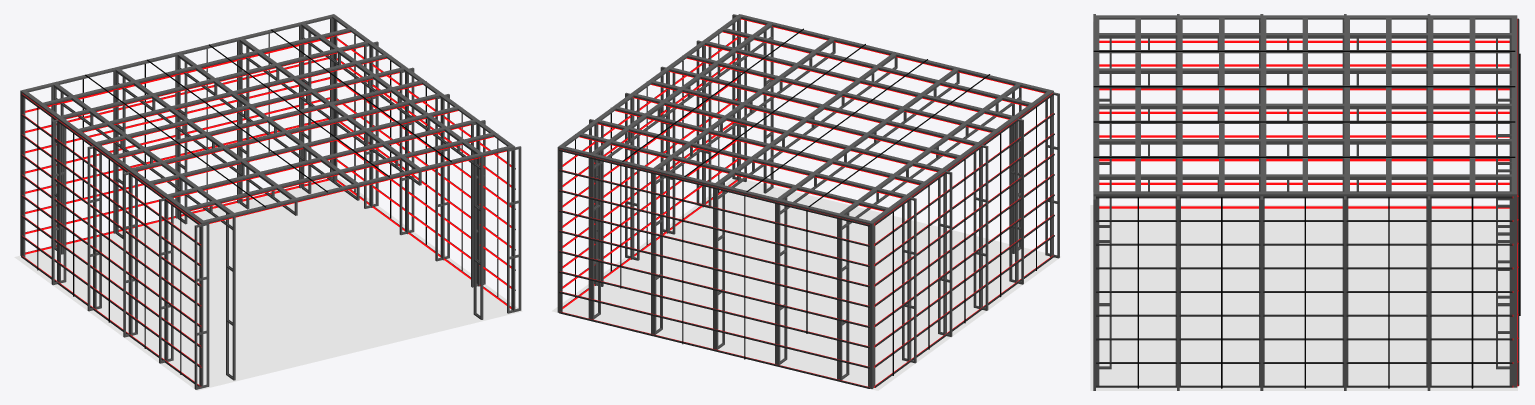
Rendered from lightbox.glb.
The picture shows the model from 3 angles, left to right: view 1: azimuth 30°, elevation 25°; view 2: azimuth 150°, elevation 25°; view 3: azimuth 270°, elevation 25°; orthographic projection. The views are drawn at different scales.
Visible parts, largest first — view 1: Object_4, Object_100, Object_5, Object_12, Object_7, Object_10, Object_86, object 20, object 19, object 21, object 18, object 15; view 2: Object_4, Object_100, Object_10, Object_5, Object_12, Object_7, Object_86; view 3: Object_100, Object_4, Object_86, Object_5, object 24, object 30, object 26, object 29, object 27, object 25, object 28, object 31 (+1 smaller).
Boxes of the visible parts, x1,y1,x2,y2 form: Object_4: (20, 14, 521, 389); Object_100: (14, 177, 522, 390); Object_5: (37, 29, 498, 374); Object_12: (21, 94, 201, 386); Object_7: (47, 31, 506, 223); Object_10: (25, 57, 329, 252); Object_86: (337, 38, 515, 306); object 20: (25, 77, 330, 153); object 19: (25, 97, 330, 173); object 21: (25, 58, 328, 132); object 18: (25, 118, 328, 193); object 15: (25, 179, 329, 254); Object_4: (557, 14, 1059, 388); Object_100: (552, 179, 1060, 390); Object_10: (559, 149, 869, 388); Object_5: (575, 28, 1036, 375); Object_12: (874, 93, 1054, 387); Object_7: (580, 18, 1044, 210); Object_86: (562, 37, 736, 306); Object_100: (1090, 205, 1517, 390); Object_4: (1093, 14, 1517, 390); Object_86: (1096, 196, 1512, 387); Object_5: (1093, 50, 1520, 388); object 24: (1099, 206, 1509, 208); object 30: (1099, 64, 1509, 66); object 26: (1099, 159, 1509, 161); object 29: (1099, 88, 1509, 90); object 27: (1099, 135, 1509, 137); object 25: (1099, 182, 1509, 184); object 28: (1099, 111, 1509, 113); object 31: (1099, 40, 1509, 42).
Size of the model in its own units: 63.18 by 30.8 by 61.81.
